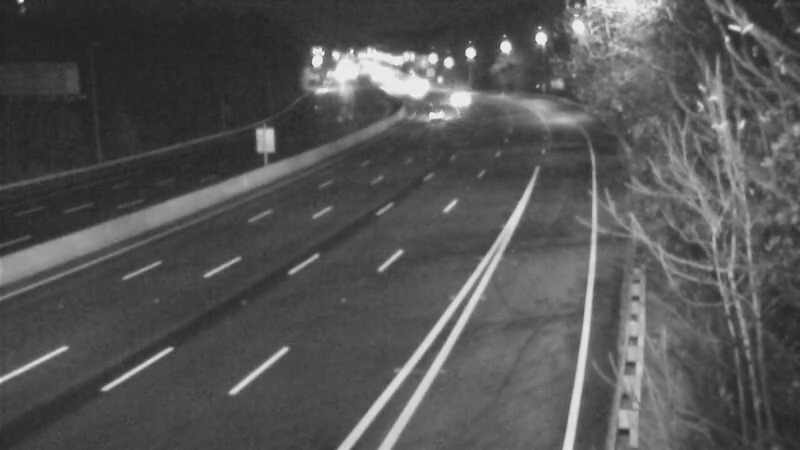vehicle: (436, 69, 486, 119), (414, 91, 464, 141)
